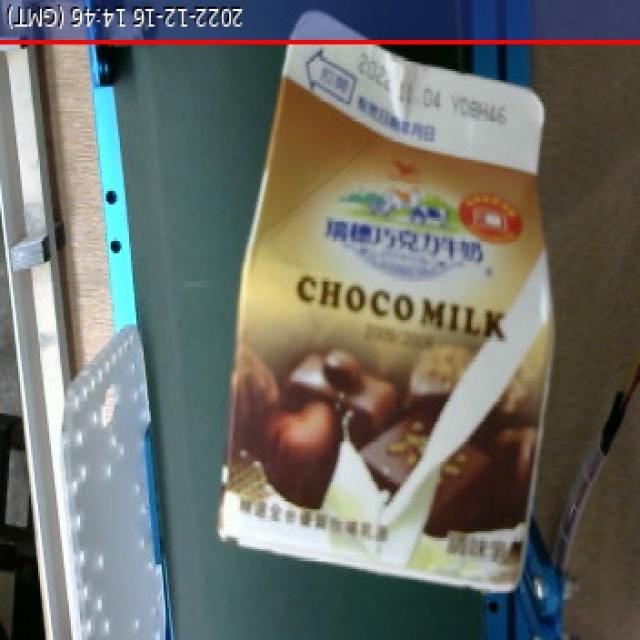non_white_jug: (202, 4, 580, 615)
